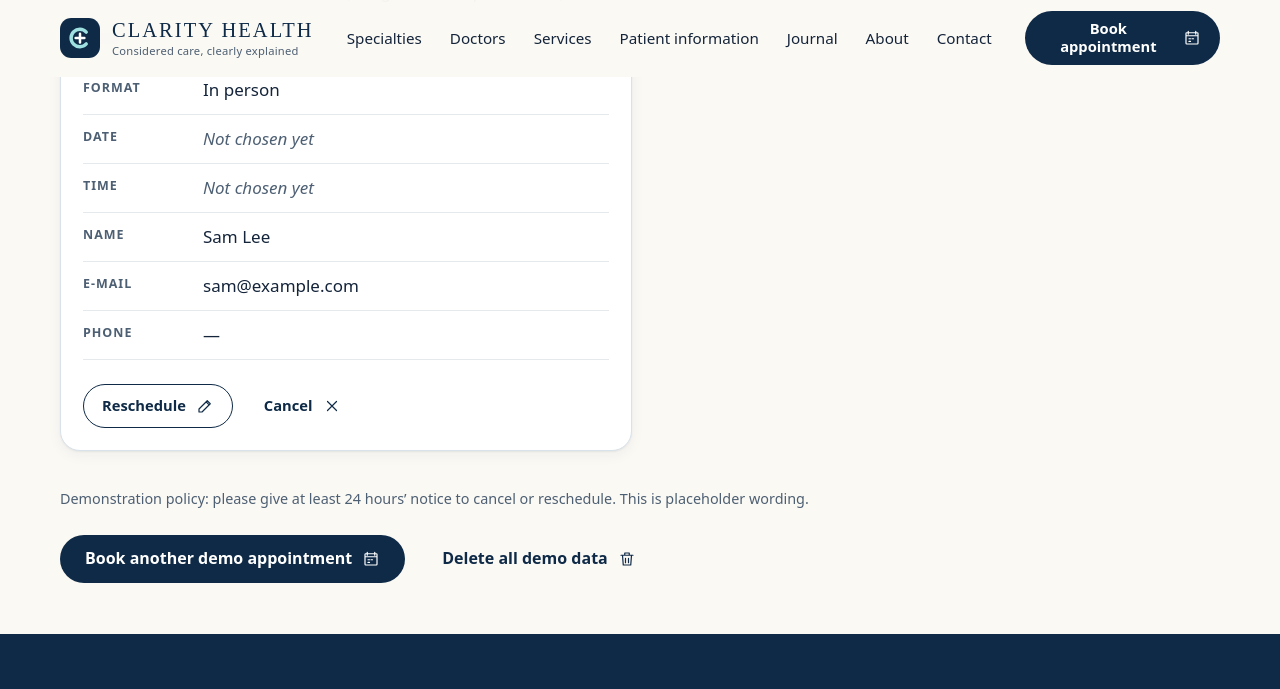
Test: booking flow (UI) › manages saved appointments: reschedule and cancel with an accessible dialog
(page scrolled)
Click the button "Cancel". click: [302, 406]
box: [245,384,360,428]
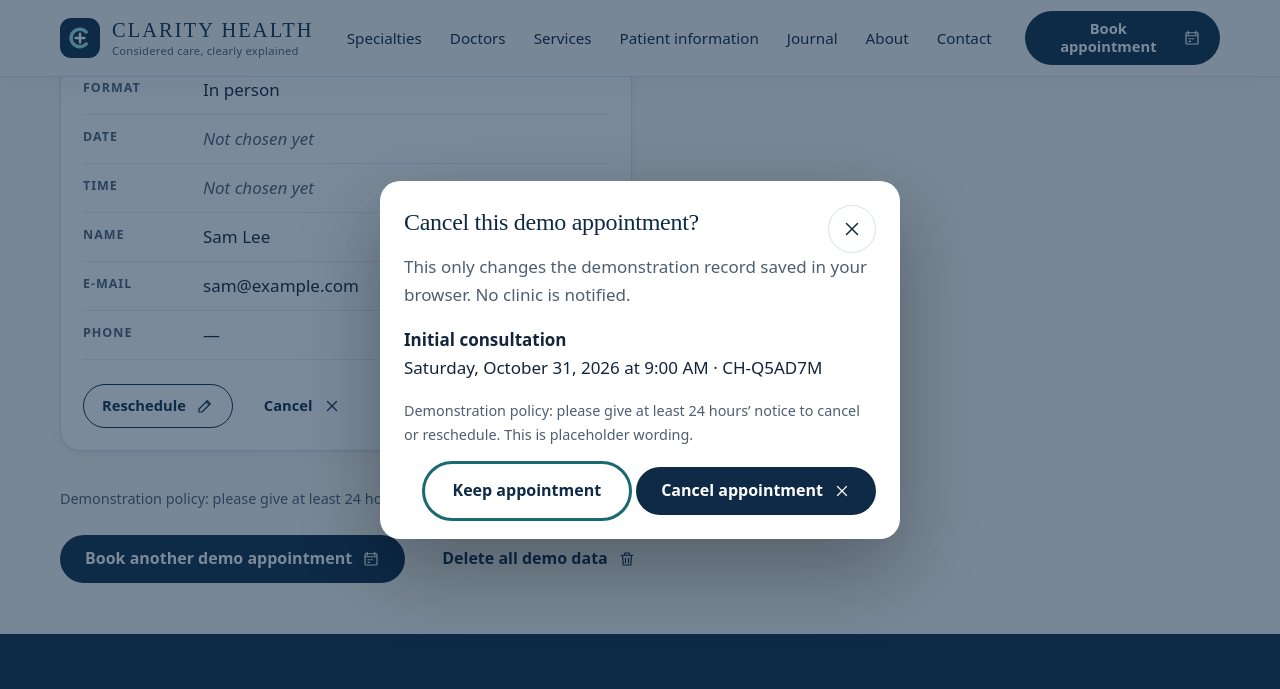
Press Escape
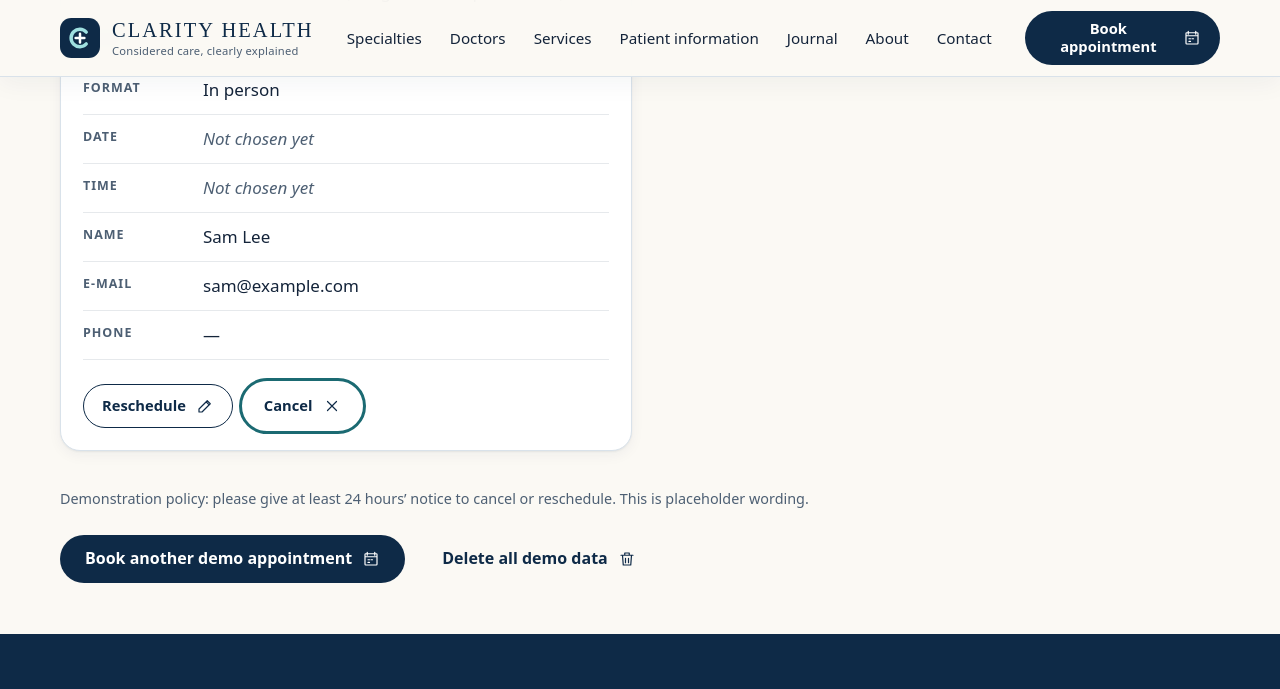
expect the dialog is gone: met
Click the button "Cancel". click: [302, 406]
box: [245,384,360,428]
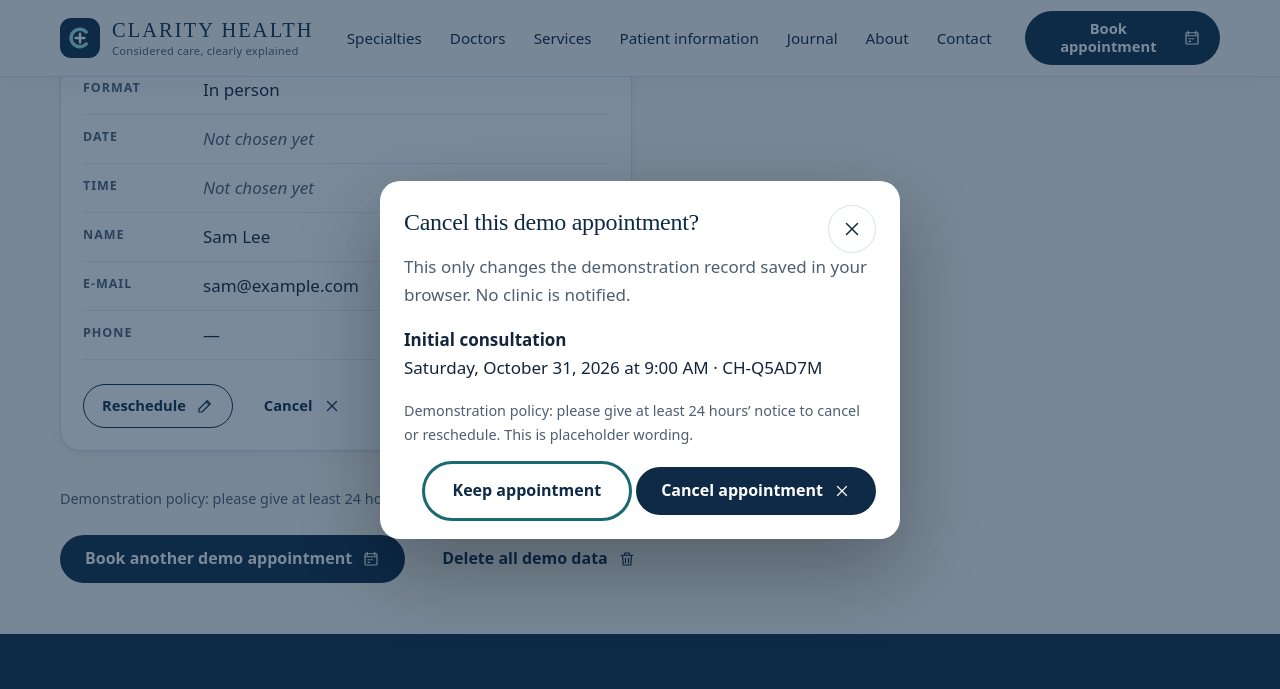
Click the button "Cancel appointment". click: [756, 491]
box: [636,467,876,515]
(page scrolled)
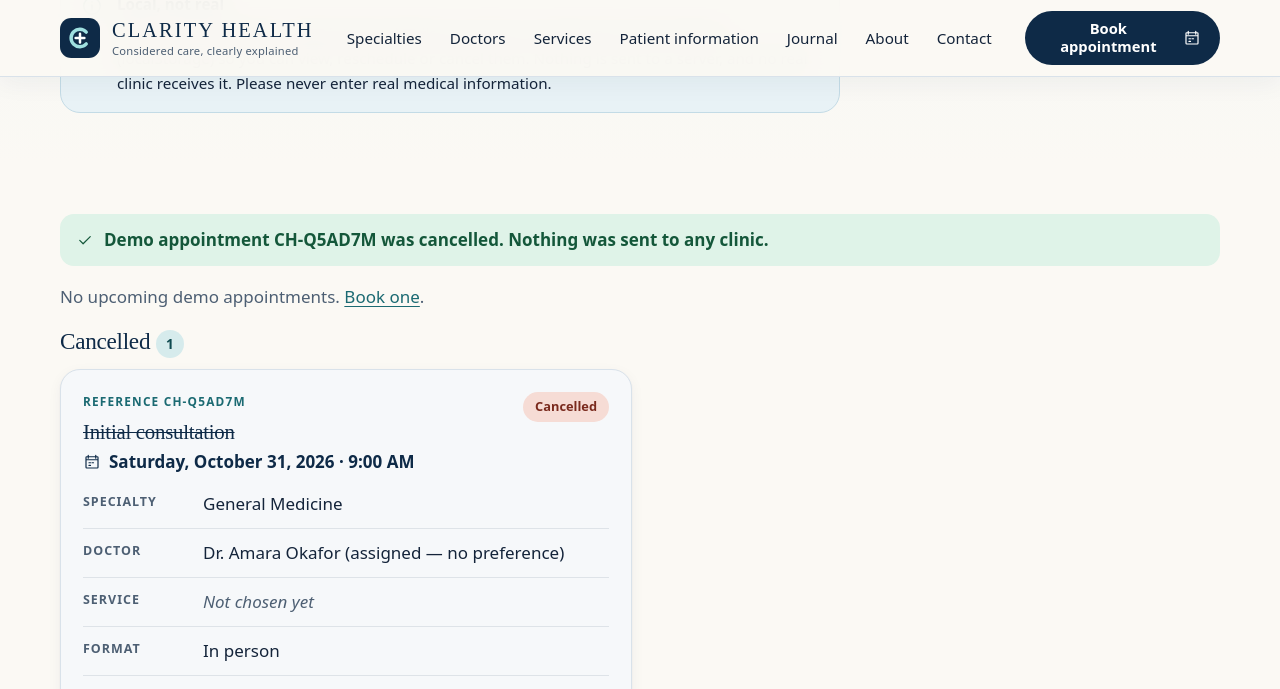
expect the text "was cancelled" is shown: met, box [104,228,769,251]
expect the text "Cancelled" is shown: met, box [523,392,609,422]
